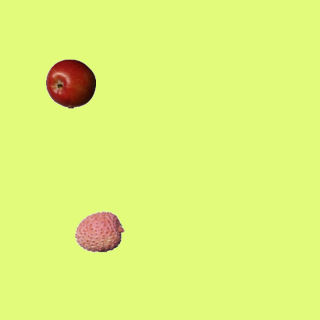Apple Braeburn: (45, 58, 95, 108)
Lychee: (74, 206, 124, 256)
